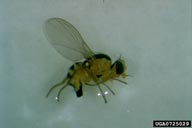Trifoli: (40, 10, 142, 113)
